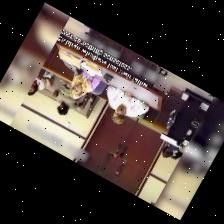person: (107, 85, 149, 123), (70, 70, 100, 98), (54, 79, 78, 114), (28, 71, 53, 95), (163, 142, 178, 157), (172, 151, 183, 158)
